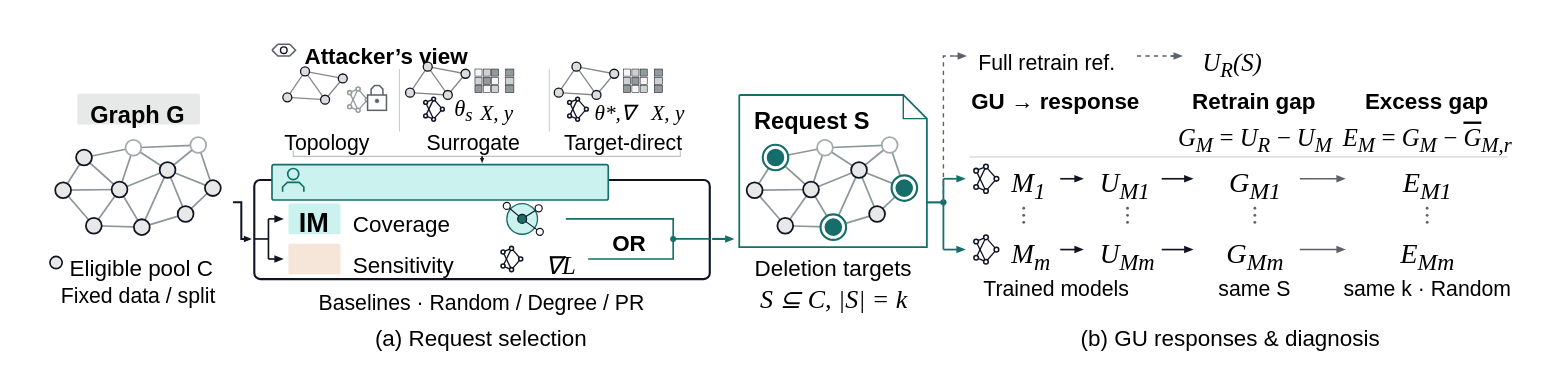
Image size: 1554x374. Some labels were removed from this diagram. Each missing label, with the centre of its shape:
IF: the point at 314,258
Red-team Selector: the point at 440,181
